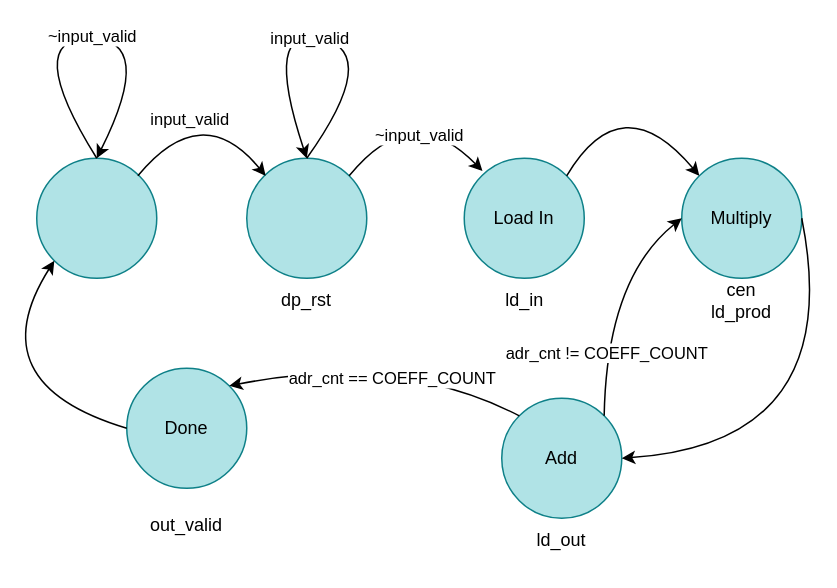
This 837x588 diagram has some shape labels left out. Here are the shapes that lost their labels. From the top down, the centre of each, then its label:
pixel 96 217: Idle
pixel 306 217: Start
